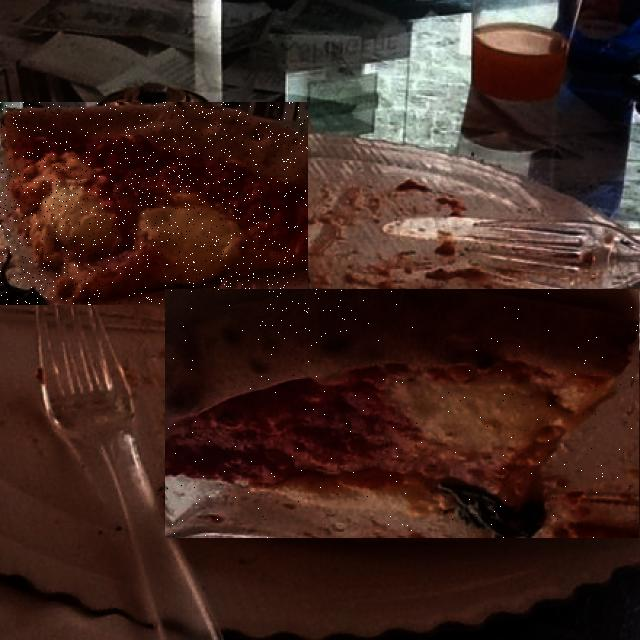Basil: (260, 289, 369, 348)
Pizza: (166, 289, 638, 538), (0, 102, 308, 305)
